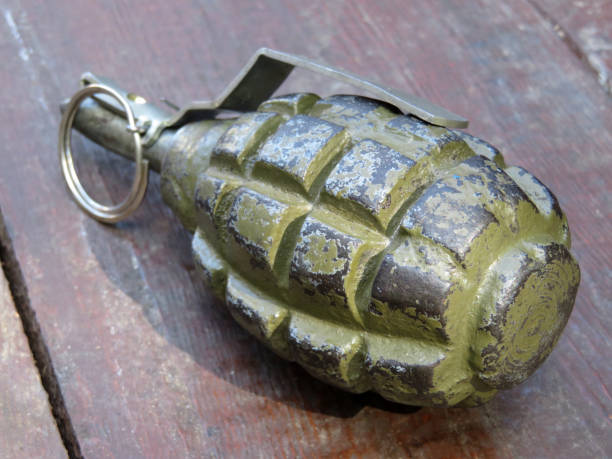e1: (55, 48, 582, 417)
